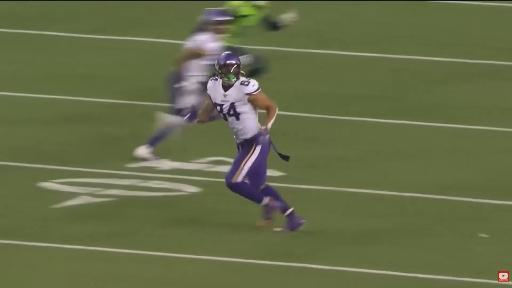Helmet: (199, 8, 234, 33), (215, 52, 242, 83)
Jersey: (176, 32, 224, 107), (207, 77, 261, 142), (225, 1, 267, 45)
Player: (197, 52, 304, 231), (133, 8, 233, 160), (224, 1, 298, 77), (225, 1, 298, 77)
